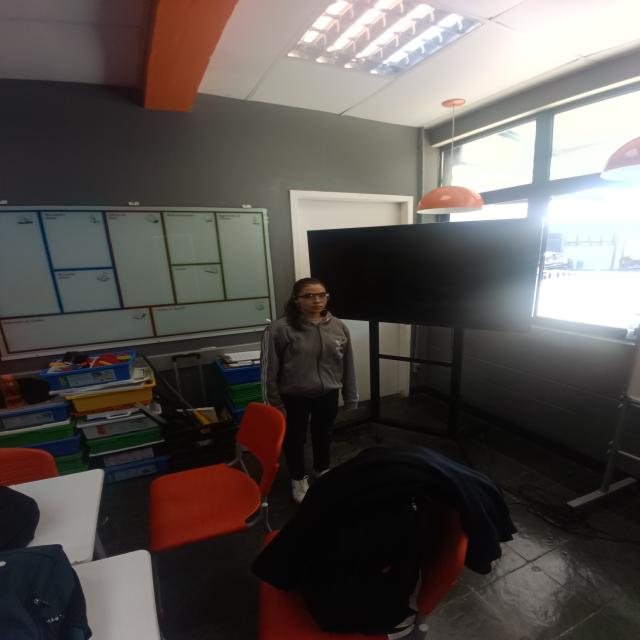oculos-epi: (297, 294, 329, 303)
